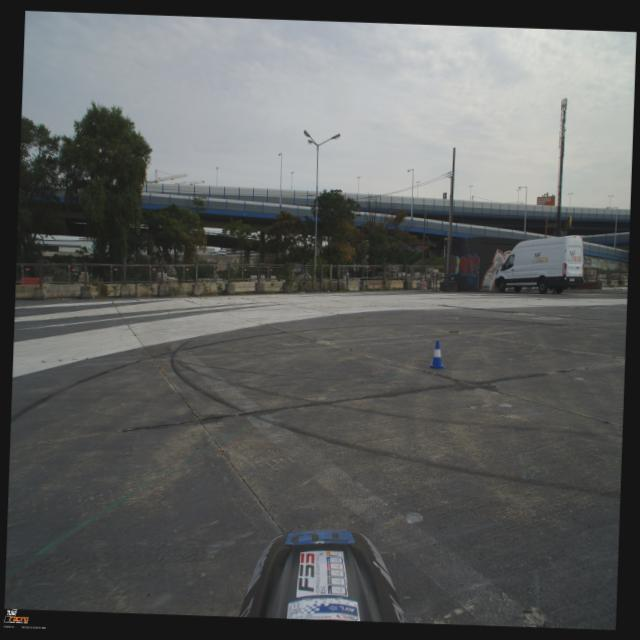blue_cone: (428, 340, 447, 370)
